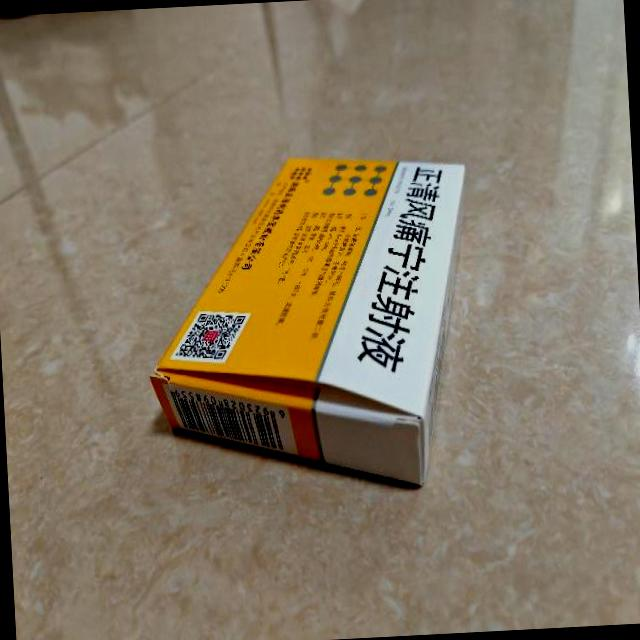box: (142, 150, 483, 504)
